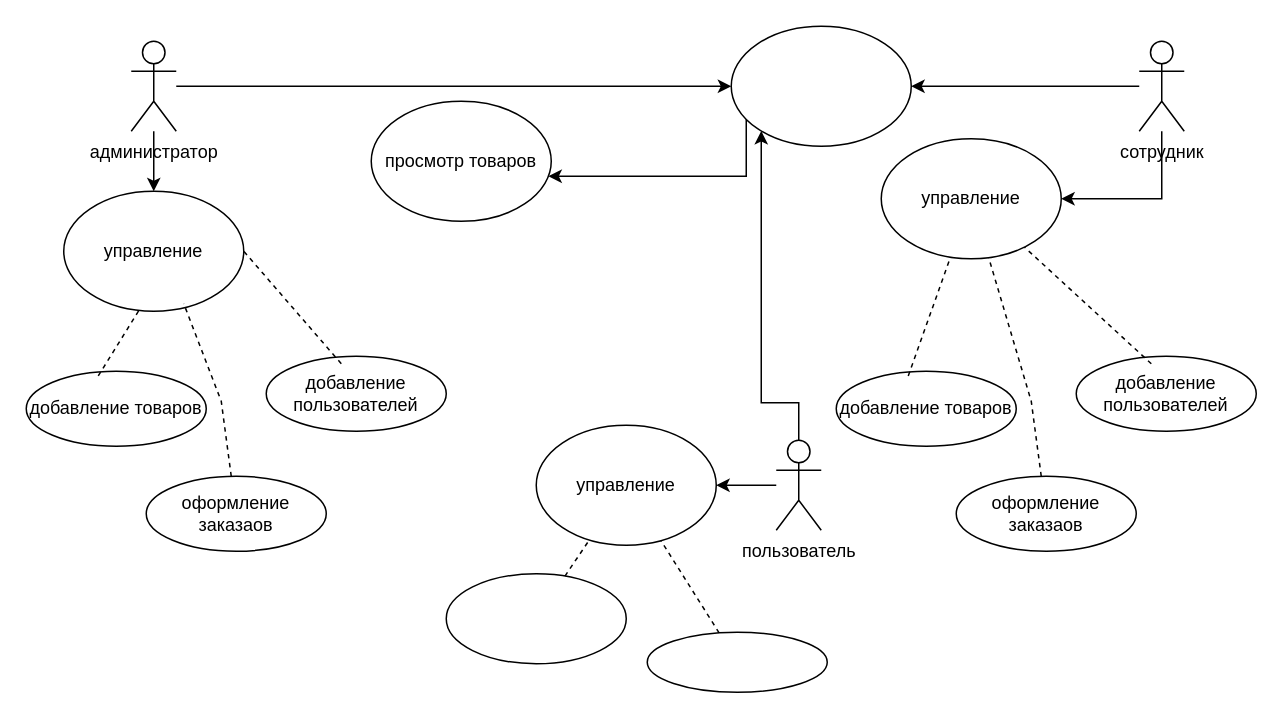
The diagram is 1283 pixels wide and 719 high, and some of its shapes have lost their labels. Here are the shapes that lost their labels. From the top down, the centre of each, then its label:
At (820,85): "авторизация".
At (535,618): "добавление в корзину".
At (736,661): "оформление корзины".
